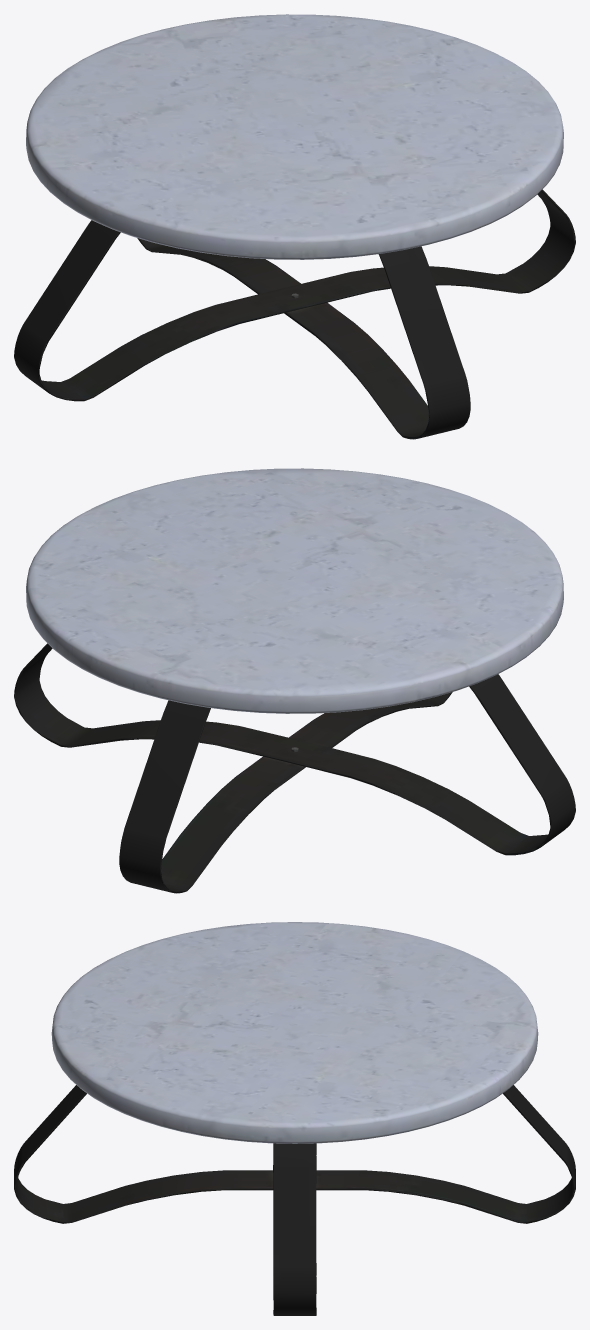
Rendered from tableRound.glb.
3 renders of one model, top to bottom at view 1: azimuth 30°, elevation 25°; view 2: azimuth 150°, elevation 25°; view 3: azimuth 270°, elevation 25°, orthographic. The views are drawn at different scales.
Visible parts, largest first — view 1: coffee_table_round_01; view 2: coffee_table_round_01; view 3: coffee_table_round_01.
Boxes of the visible parts, <box> form: coffee_table_round_01: <box>14,14,575,439</box>; coffee_table_round_01: <box>14,468,575,893</box>; coffee_table_round_01: <box>14,922,575,1315</box>.
Bounding box in the file's own units: 1.3 × 0.4909 × 1.3.
Materials: 1 (1 with a texture image).
